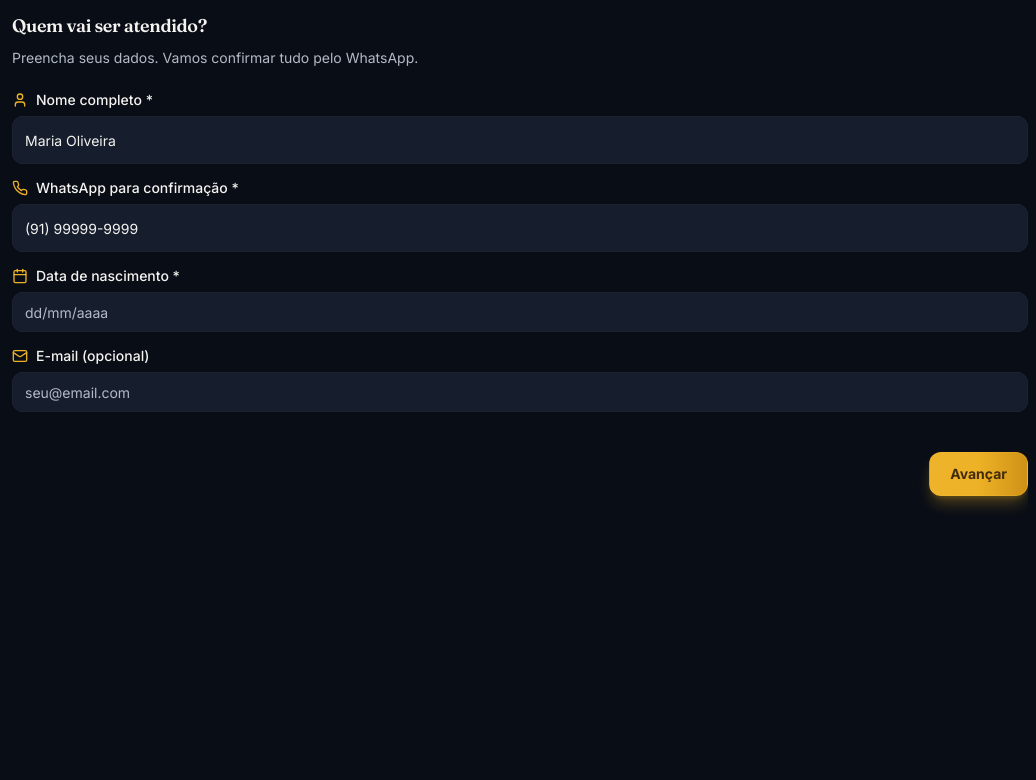
PersonalDataStep — data de nascimento obrigatória › ano < 1900 bloqueia
Type "01/01/1899" into the field labelled "Data de nascimento *".
click(520, 312); type("01/01/1899")  # box [12, 292, 1028, 332]
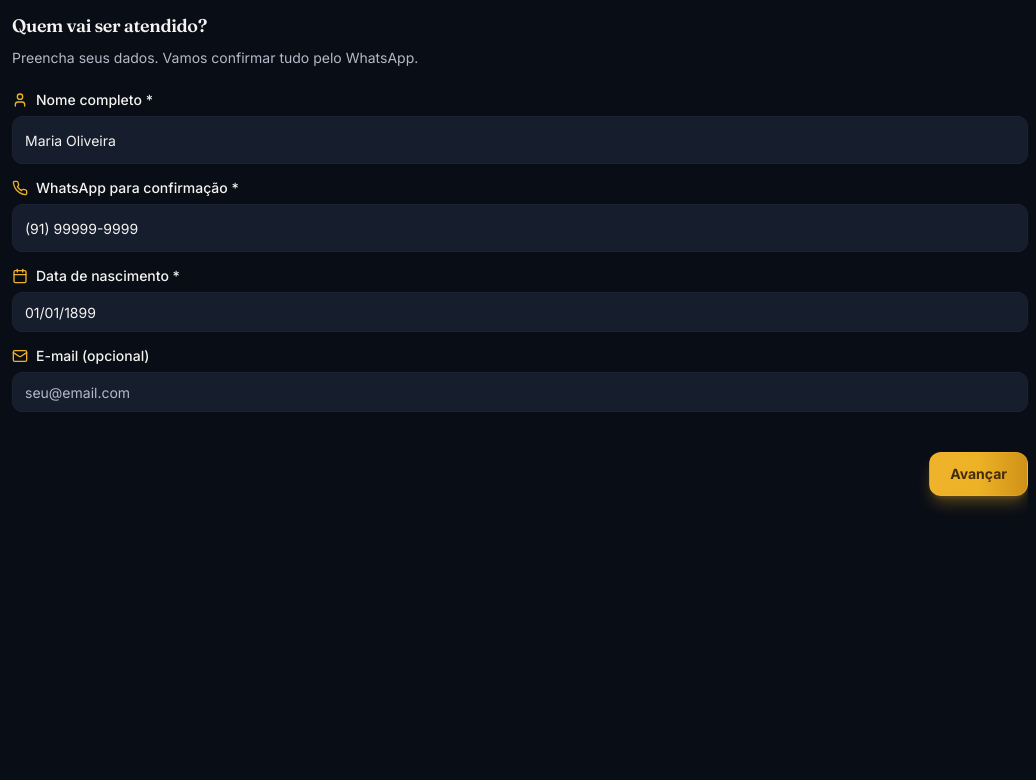
Click the button "Avançar".
click(979, 474)  # box [929, 452, 1028, 496]
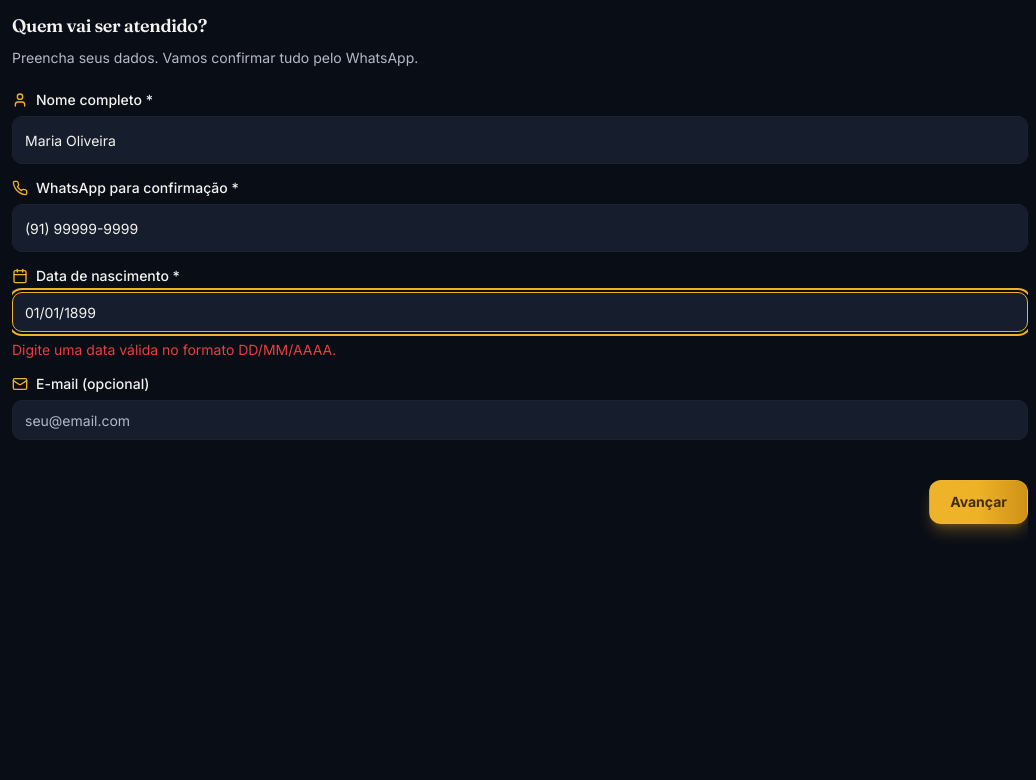
Expected: the text "Digite uma data válida no formato DD/MM/AAAA." is shown, [12, 341, 336, 358]
